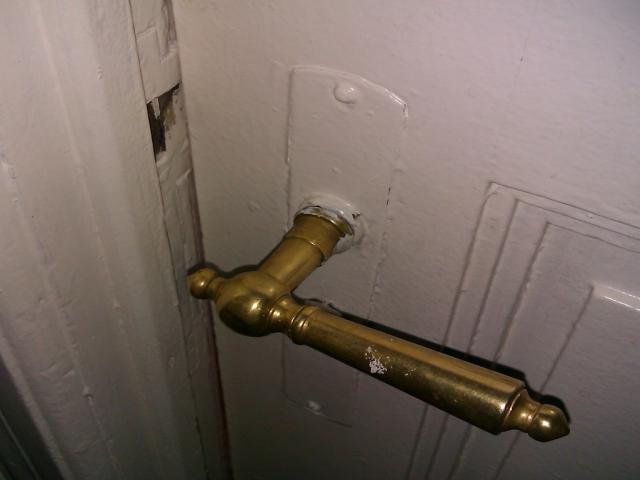Door-handle: (187, 205, 568, 443)
